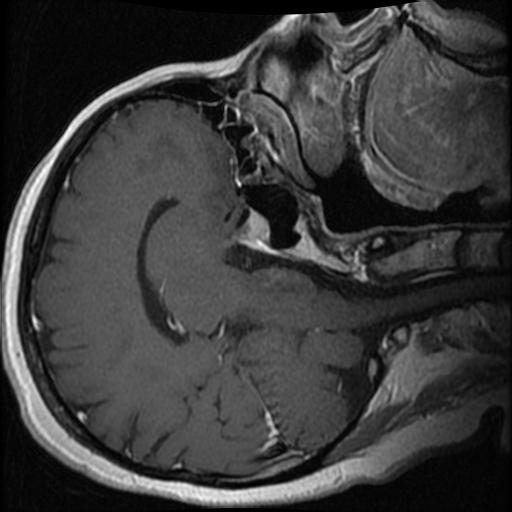pituitary tumour: (235, 213, 271, 253)
